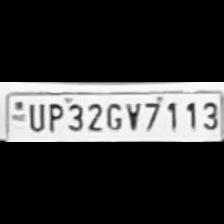1: (162, 98, 180, 132), (180, 98, 198, 132)
2: (85, 100, 103, 132)
3: (198, 98, 220, 132), (65, 100, 83, 132)
7: (142, 99, 160, 133)
G: (104, 100, 122, 132)
P: (45, 100, 63, 134)
U: (24, 100, 43, 132)
Y: (124, 98, 140, 132)
